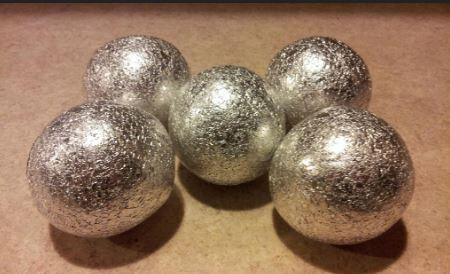Alive: (26, 102, 172, 252), (280, 106, 420, 244), (180, 70, 292, 192), (268, 24, 384, 110), (88, 44, 180, 98)
